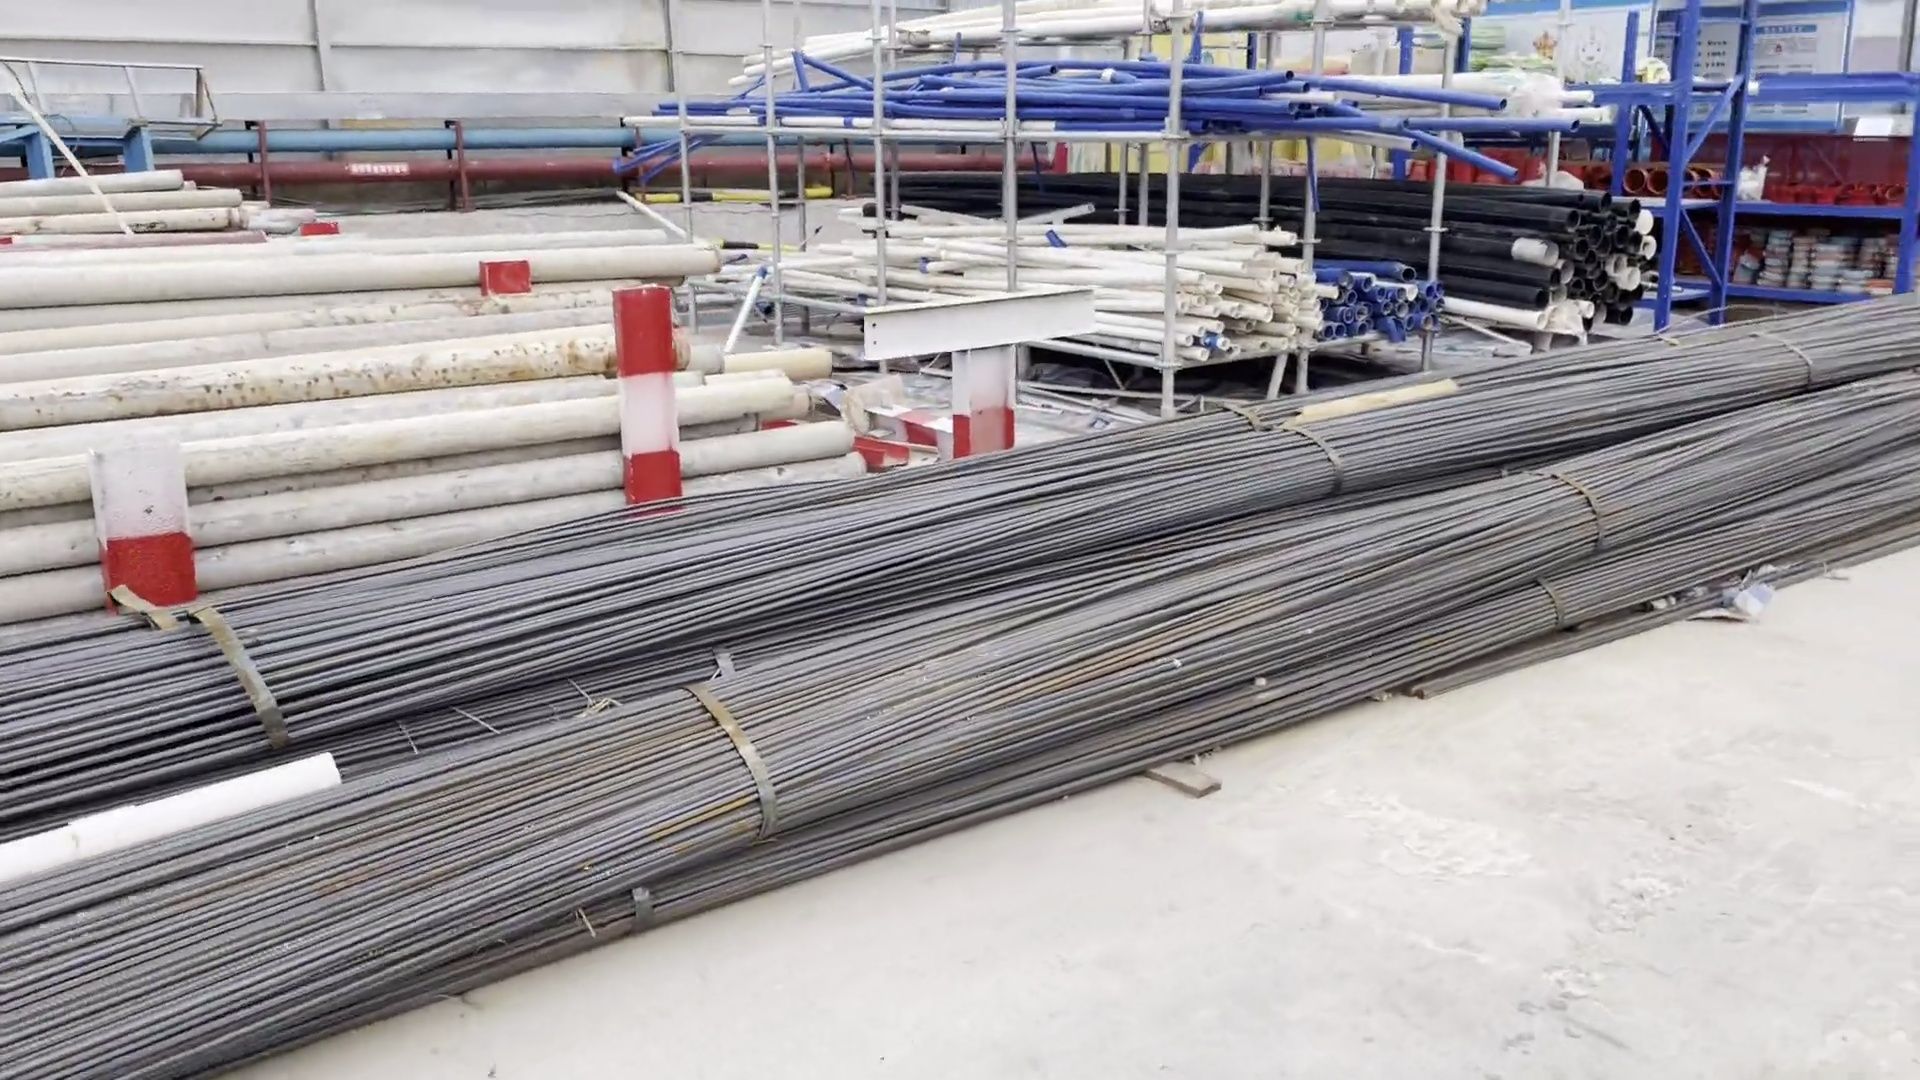rebar: (3, 480, 837, 1080), (827, 355, 1431, 882), (1419, 301, 1920, 723)
slogan: (1650, 3, 1865, 119), (1468, 11, 1648, 88)
